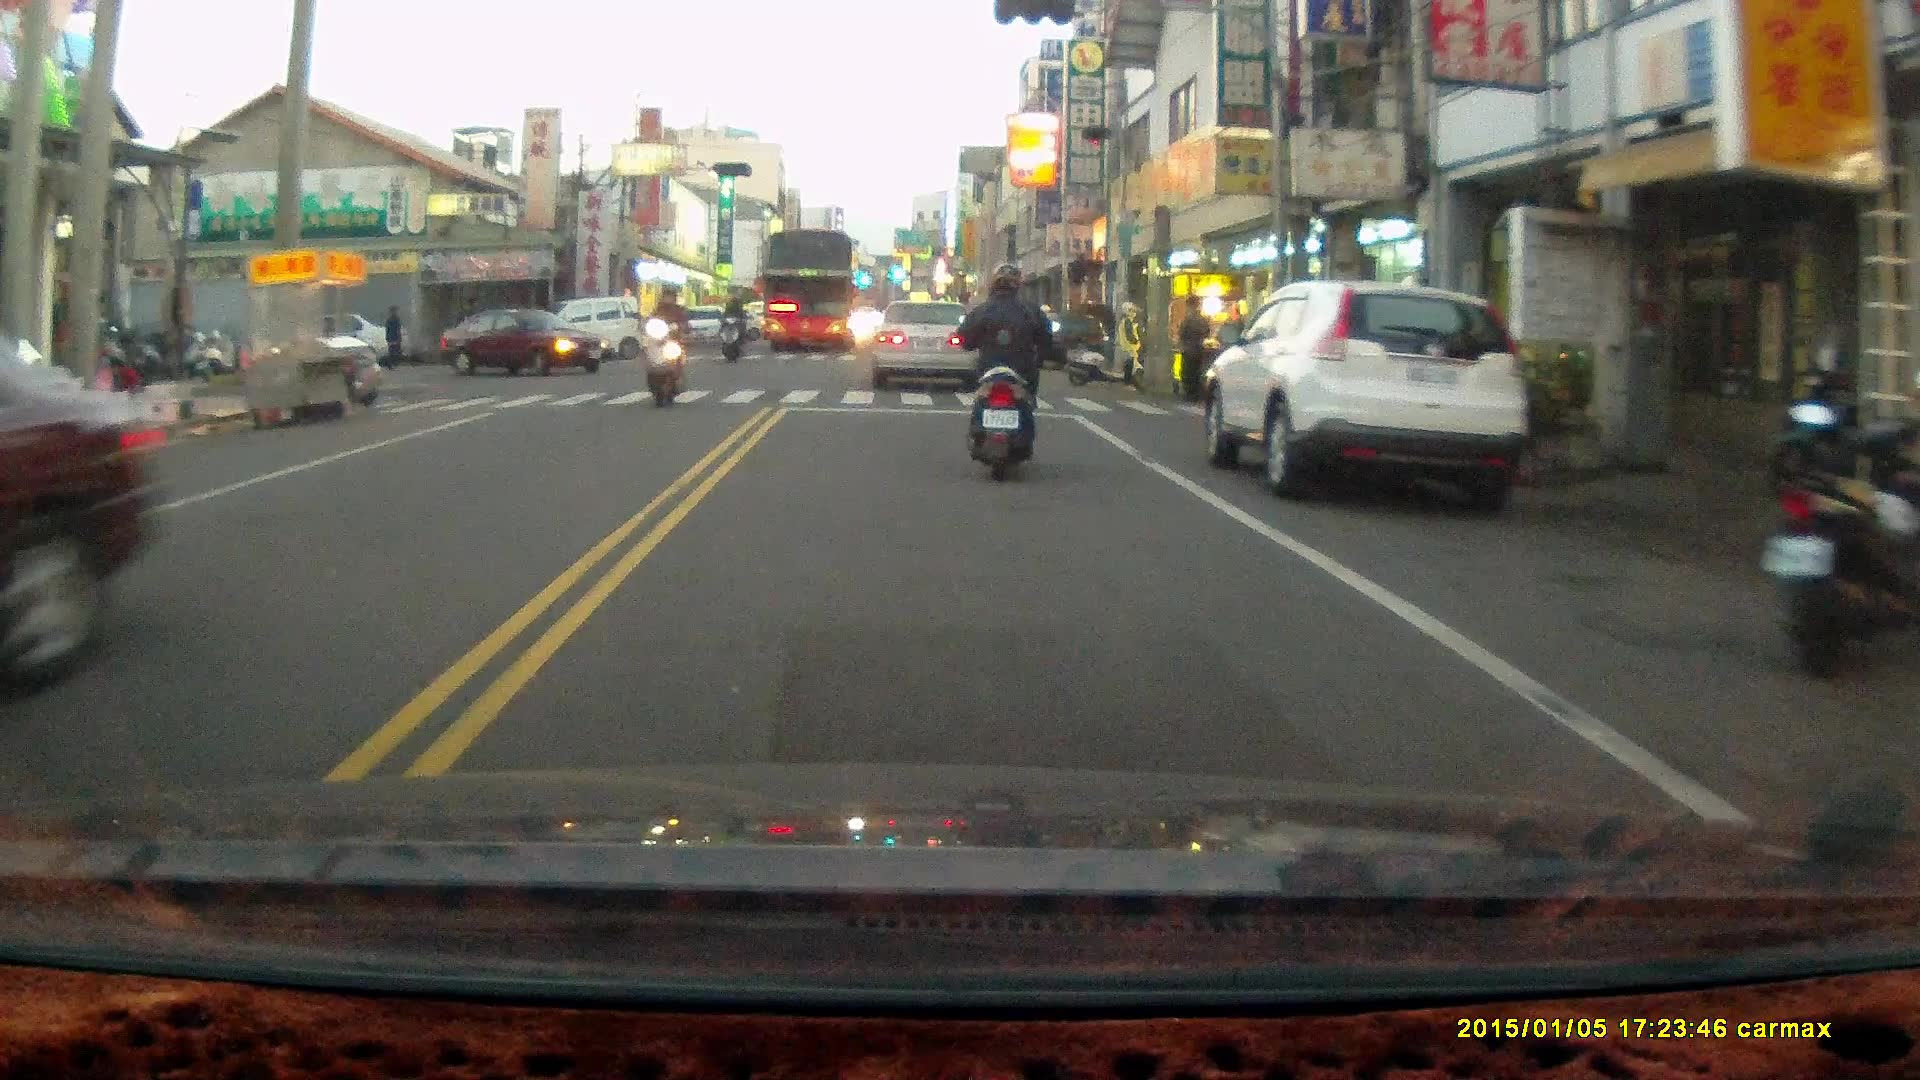pedestrian: (1178, 293, 1210, 403), (1115, 297, 1148, 391), (381, 301, 404, 367)
rider: (955, 259, 1056, 478), (631, 279, 683, 409), (720, 291, 745, 361)
vehicle: (1207, 279, 1528, 500), (1, 302, 166, 704), (752, 232, 863, 351), (449, 306, 608, 382), (870, 300, 980, 393)
